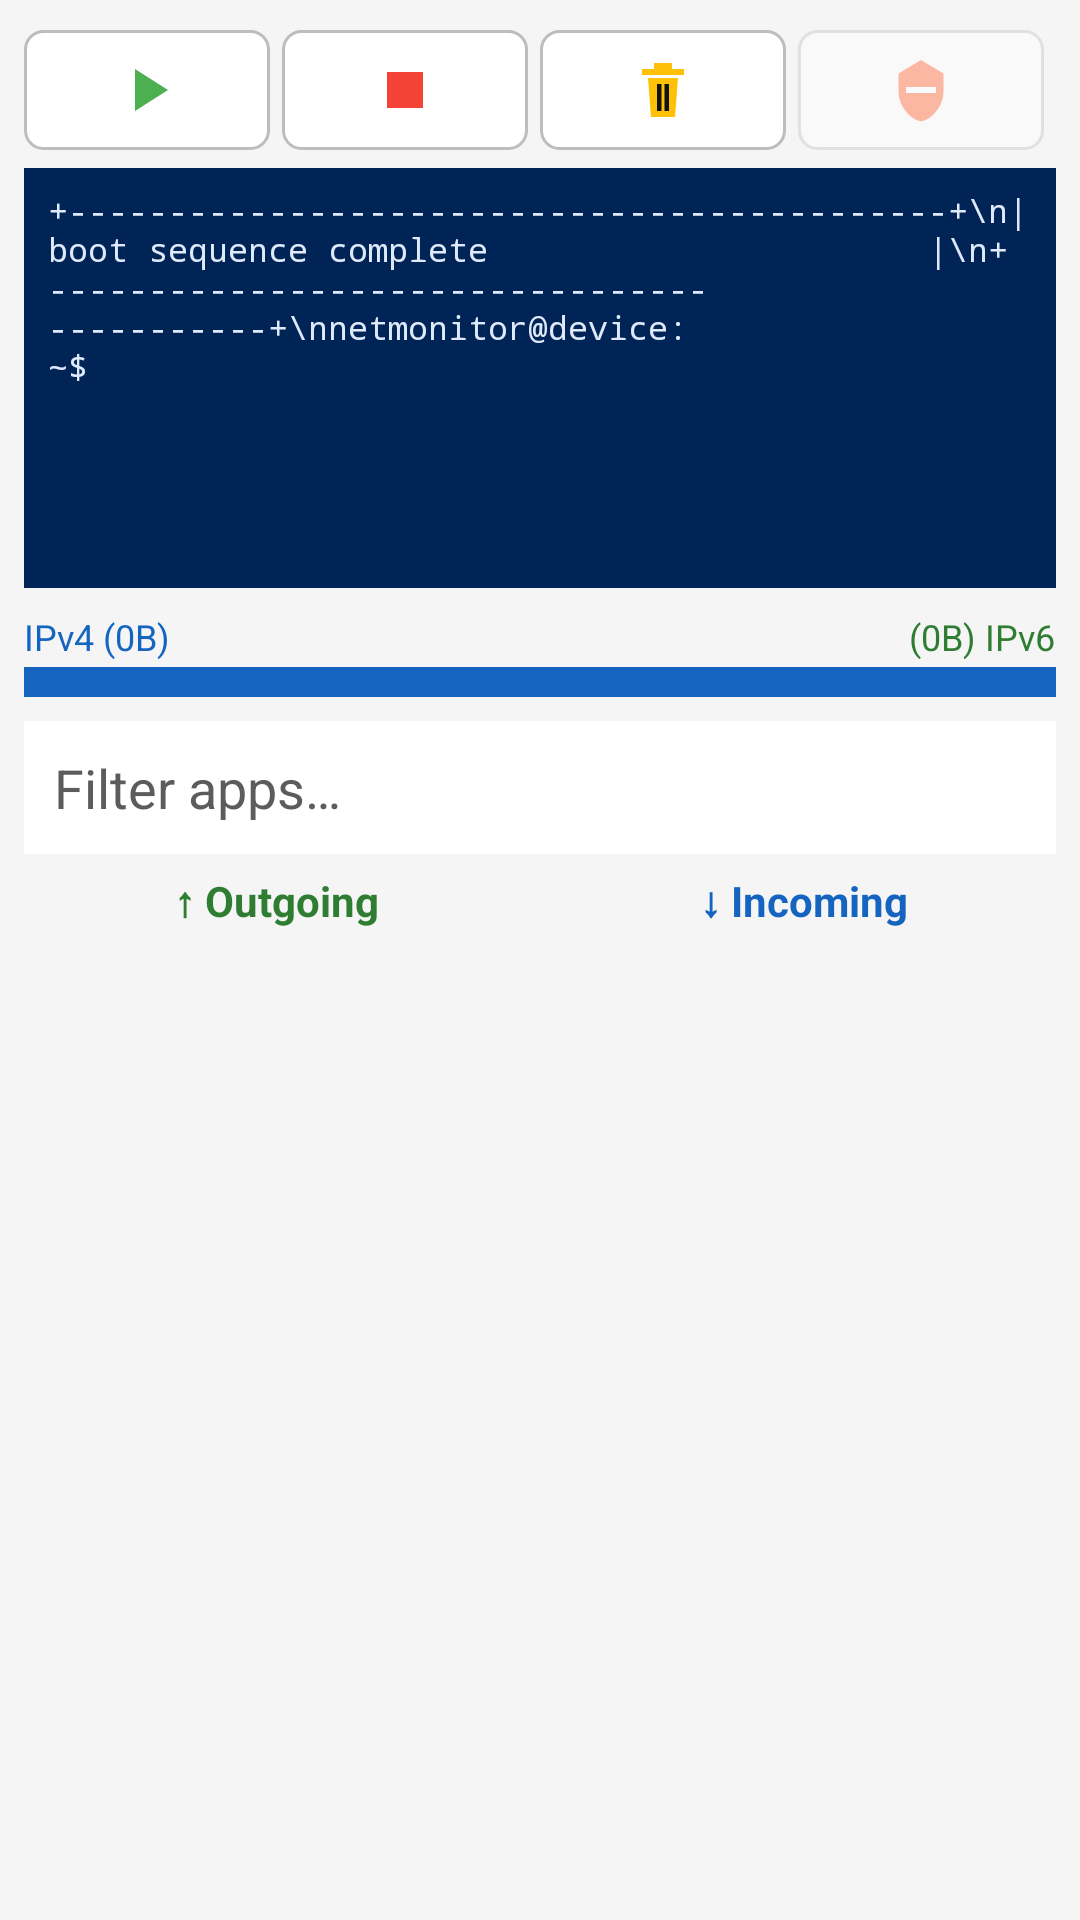

Screen size 1080 × 1920. Icon name, then its box in pixels as (x1, y1, x2, y2):
Clear: (540, 30, 786, 150)
Global block mode: (898, 60, 944, 122)
Start: (24, 30, 270, 150)
Stop: (282, 30, 528, 150)
